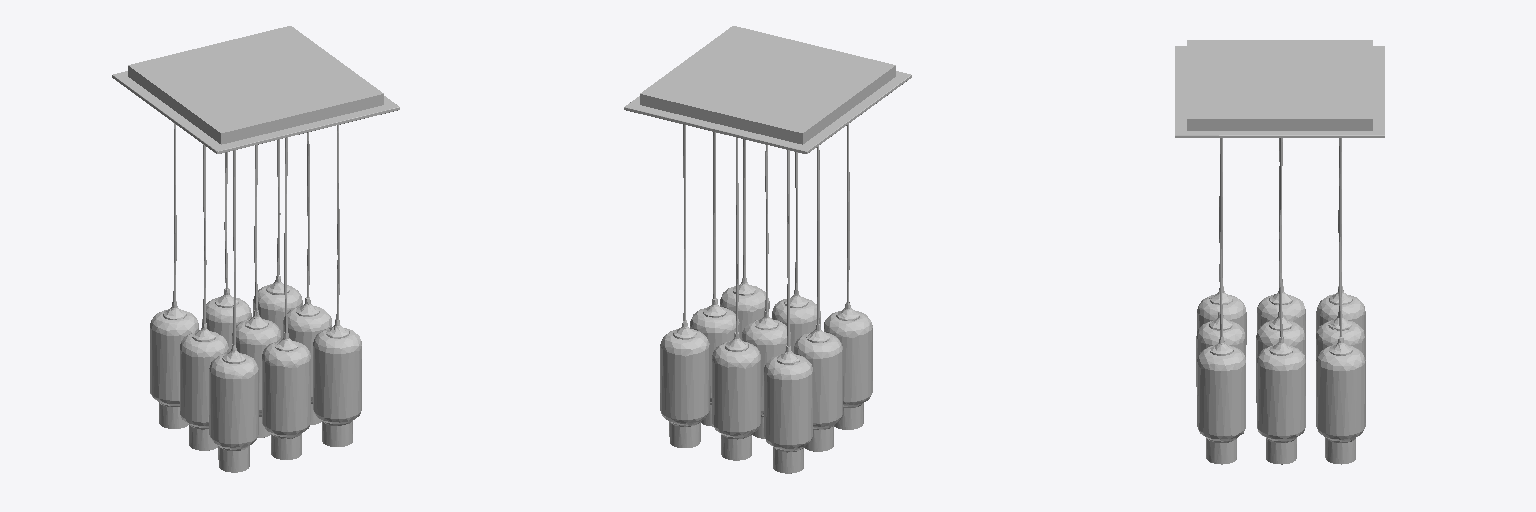
3 views of the same model, side by side, from view 1: azimuth 30°, elevation 25°; view 2: azimuth 150°, elevation 25°; view 3: azimuth 270°, elevation 25° (orthographic).
Visible parts, largest first — view 1: glass_001, solid_001, solid_003, solid_004; view 2: glass_001, solid_001, solid_003, solid_004; view 3: glass_001, solid_001, solid_004, solid_003.
Boxes of the visible parts, box(x1,y1,x2,y2) form: glass_001: box(150, 284, 361, 472); solid_001: box(112, 26, 399, 153); solid_003: box(173, 123, 339, 345); solid_004: box(163, 276, 349, 363); glass_001: box(660, 286, 872, 473); solid_001: box(624, 26, 911, 153); solid_003: box(683, 124, 849, 346); solid_004: box(673, 278, 859, 364); glass_001: box(1196, 294, 1365, 464); solid_001: box(1175, 40, 1384, 137); solid_004: box(1209, 286, 1352, 355); solid_003: box(1219, 138, 1341, 336).
Size of the model in its own units: 0.5878 by 1.08 by 0.5858.